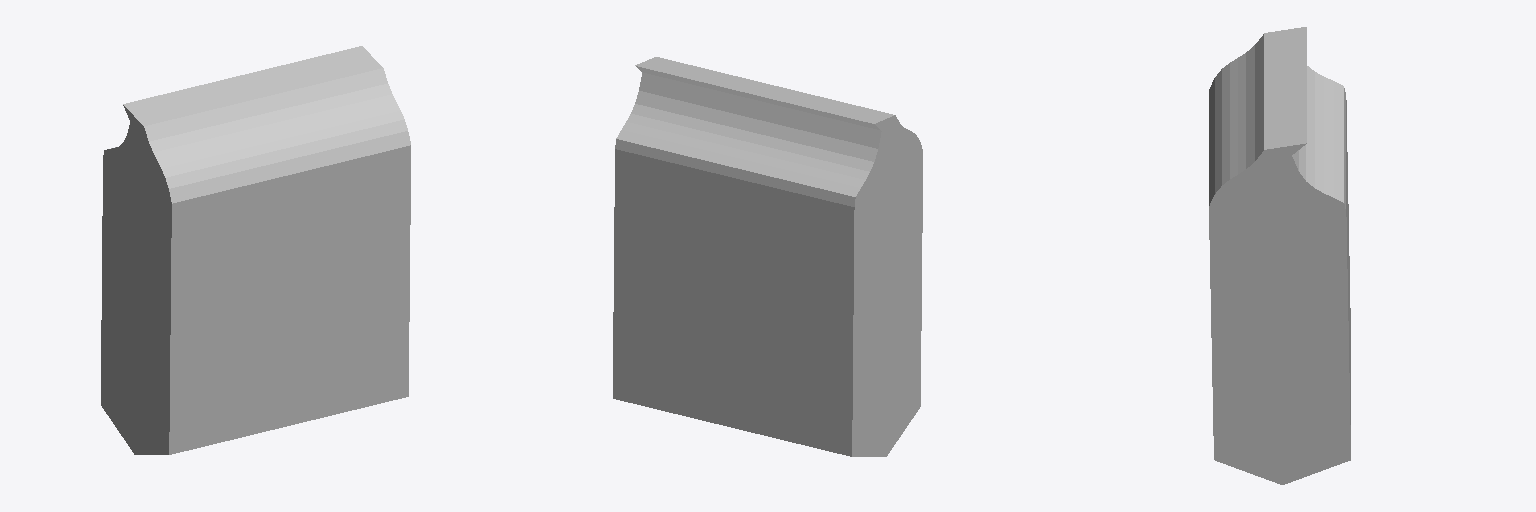
Rendered from Sugar.obj.
3 views of the same model, side by side, from view 1: azimuth 30°, elevation 25°; view 2: azimuth 150°, elevation 25°; view 3: azimuth 270°, elevation 25° (orthographic).
Parts seen in each view (by area): view 1: pCube10; view 2: pCube10; view 3: pCube10.
Part boxes in pixels (left/top/right/bottom): pCube10: left=101, top=46, right=410, bottom=454; pCube10: left=613, top=57, right=922, bottom=456; pCube10: left=1209, top=27, right=1350, bottom=484.
Bounding box in the file's own units: 1.42 × 1.94 × 0.7325.